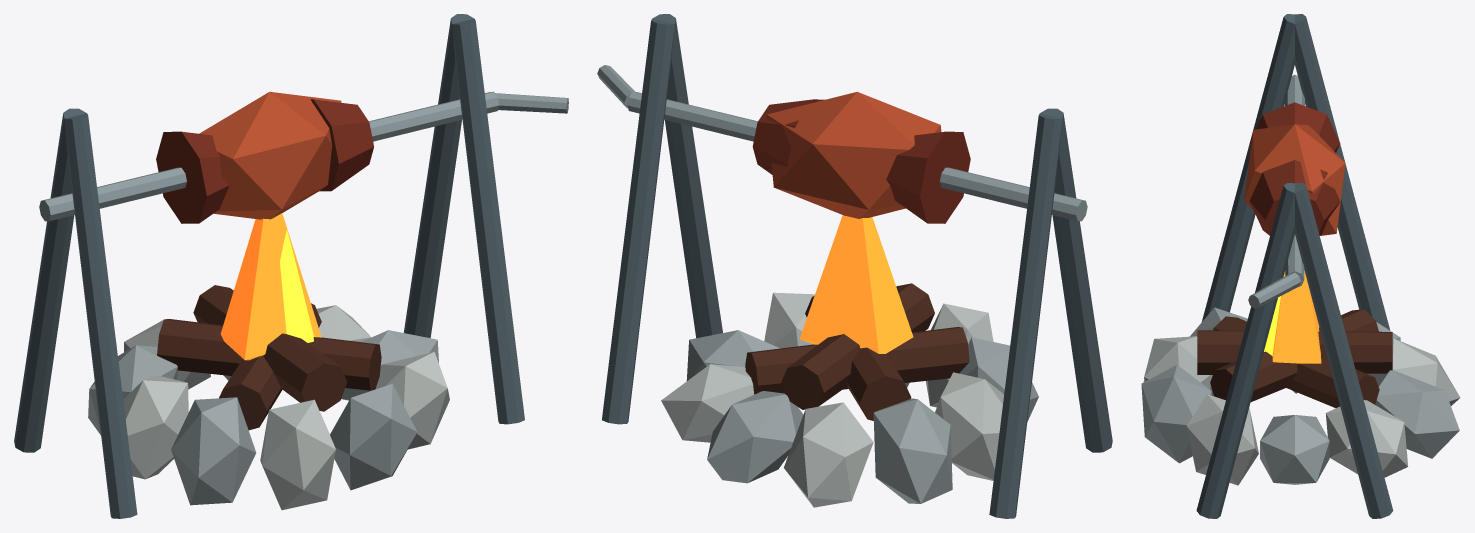
The model's file is station_cooking_spit.glb.
The picture shows the model from 3 angles, left to right: view 1: azimuth 30°, elevation 25°; view 2: azimuth 150°, elevation 25°; view 3: azimuth 270°, elevation 25°; orthographic projection. The views are drawn at different scales.
Parts seen in each view (by area): view 1: Roast, Tripod_Leg_Front_-1, Tripod_Leg_Front_1, Tripod_Leg_Back_-1, Tripod_Leg_Back_1, Ring_Stone_7.001, Flame_Outer.001, Ring_Stone_8.001, Ring_Stone_9.001, Fire_Log_2.001, Fire_Log_3.001, Ring_Stone_6.001 (+11 smaller); view 2: Roast, Tripod_Leg_Back_-1, Tripod_Leg_Back_1, Flame_Outer.001, Tripod_Leg_Front_-1, Tripod_Leg_Front_1, Ring_Stone_5.001, Ring_Stone_4.001, Ring_Stone_3.001, Fire_Log_1.001, Roast_End_-0.3, Ring_Stone_6.001 (+10 smaller); view 3: Tripod_Leg_Back_1, Tripod_Leg_Front_1, Tripod_Leg_Back_-1, Tripod_Leg_Front_-1, Roast, Ring_Stone_3.001, Ring_Stone_9.001, Ring_Stone_1.001, Fire_Log_3.001, Ring_Stone_2.001, Flame_Outer.001, Roast_End_0.3 (+10 smaller).
Part boxes in pixels (x1,y1,x2,y2): Roast: [199, 91, 341, 219]; Tripod_Leg_Front_-1: [64, 113, 137, 518]; Tripod_Leg_Front_1: [452, 18, 524, 424]; Tripod_Leg_Back_-1: [14, 108, 86, 452]; Tripod_Leg_Back_1: [403, 14, 473, 338]; Ring_Stone_7.001: [171, 397, 256, 505]; Flame_Outer.001: [220, 213, 321, 360]; Ring_Stone_8.001: [260, 399, 335, 510]; Ring_Stone_9.001: [330, 383, 417, 490]; Fire_Log_2.001: [157, 319, 381, 390]; Fire_Log_3.001: [193, 285, 347, 411]; Ring_Stone_6.001: [123, 375, 188, 479]; Roast: [766, 91, 941, 218]; Tripod_Leg_Back_-1: [989, 113, 1062, 518]; Tripod_Leg_Back_1: [602, 18, 674, 424]; Flame_Outer.001: [799, 215, 913, 353]; Tripod_Leg_Front_-1: [1040, 108, 1112, 452]; Tripod_Leg_Front_1: [652, 14, 722, 338]; Ring_Stone_5.001: [873, 398, 952, 503]; Ring_Stone_4.001: [784, 402, 873, 507]; Ring_Stone_3.001: [707, 391, 803, 483]; Fire_Log_1.001: [745, 327, 969, 394]; Roast_End_-0.3: [886, 131, 970, 223]; Ring_Stone_6.001: [935, 372, 1003, 480]; Tripod_Leg_Back_1: [1295, 183, 1393, 518]; Tripod_Leg_Front_1: [1196, 183, 1294, 518]; Tripod_Leg_Back_-1: [1295, 14, 1390, 330]; Tripod_Leg_Front_-1: [1202, 14, 1294, 321]; Roast: [1244, 124, 1345, 235]; Ring_Stone_3.001: [1375, 370, 1459, 458]; Ring_Stone_9.001: [1141, 364, 1211, 463]; Ring_Stone_1.001: [1260, 415, 1329, 484]; Fire_Log_3.001: [1197, 330, 1392, 374]; Ring_Stone_2.001: [1325, 400, 1408, 477]; Flame_Outer.001: [1272, 270, 1321, 363]; Roast_End_0.3: [1249, 160, 1339, 235].
Size of the model in its own units: 2.29 by 1.67 by 1.4.
